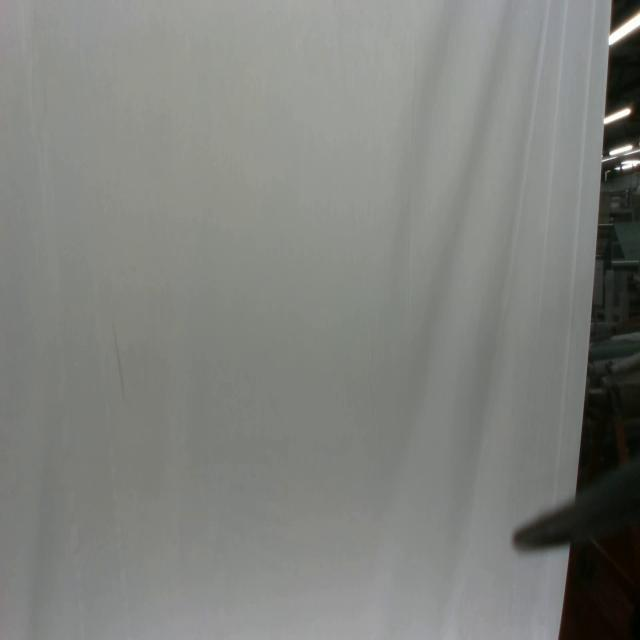crease: (17, 6, 133, 637)
